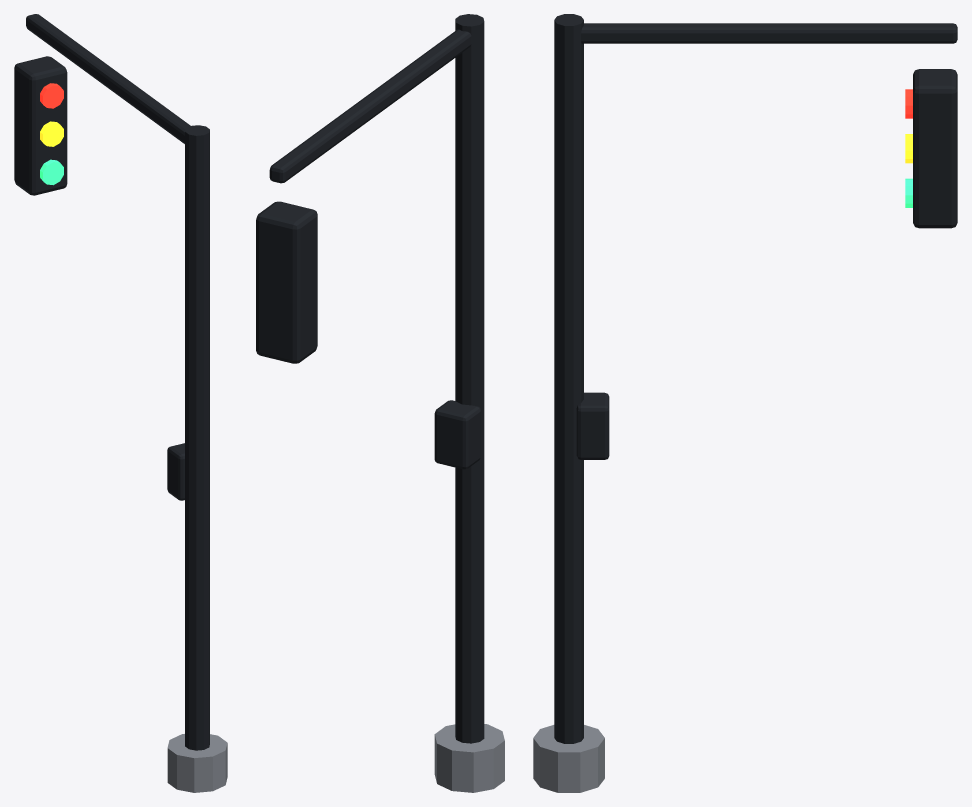
Rendered from prop_trafficlight.glb.
3 renders of one model, left to right at view 1: azimuth 30°, elevation 25°; view 2: azimuth 150°, elevation 25°; view 3: azimuth 270°, elevation 25°, orthographic. The views are drawn at different scales.
Visible parts, largest first — view 1: Pole, Housing, Arm, Base, PedBox, Bulb_R, Bulb_Y, Bulb_G; view 2: Pole, Housing, Arm, Base, PedBox; view 3: Pole, Arm, Housing, Base, PedBox.
Part boxes in pixels (box(x1,y1,x2,y2)): Pole: box(185, 125, 209, 750); Housing: box(14, 56, 67, 195); Arm: box(26, 14, 190, 143); Base: box(167, 734, 227, 792); PedBox: box(167, 443, 184, 500); Bulb_R: box(40, 83, 63, 108); Bulb_Y: box(40, 121, 63, 146); Bulb_G: box(40, 159, 63, 185); Pole: box(455, 14, 484, 743); Housing: box(256, 201, 317, 363); Arm: box(269, 29, 471, 183); Base: box(434, 724, 504, 792); PedBox: box(434, 400, 480, 469); Pole: box(554, 14, 583, 743); Arm: box(581, 23, 957, 43); Housing: box(913, 69, 957, 228); Base: box(533, 725, 604, 792); PedBox: box(576, 392, 609, 459).
Bounding box in the file's own units: 0.4565 × 5.6 × 2.84.
